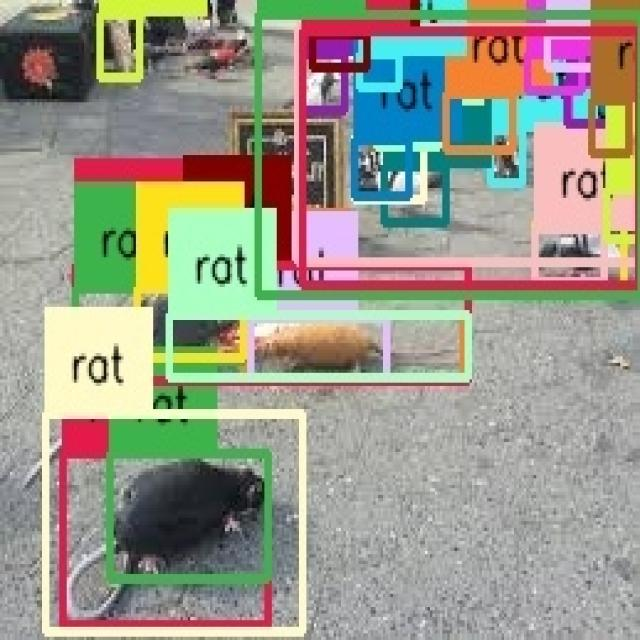rat: (257, 15, 640, 295), (302, 30, 638, 287), (298, 28, 639, 262), (45, 416, 302, 630), (77, 264, 467, 379), (63, 452, 268, 623), (110, 454, 268, 579), (171, 317, 467, 379), (244, 317, 464, 379), (75, 289, 244, 361), (252, 317, 388, 376), (137, 289, 244, 358), (535, 223, 624, 285), (568, 82, 630, 152), (354, 137, 424, 199), (373, 86, 438, 148), (535, 228, 604, 284), (446, 96, 513, 152), (384, 165, 446, 224), (184, 264, 251, 310), (356, 138, 408, 194), (551, 148, 598, 204), (378, 104, 437, 147), (100, 13, 140, 76), (299, 54, 343, 110), (527, 53, 582, 92), (592, 100, 629, 154), (489, 130, 524, 183), (568, 82, 610, 126), (546, 34, 598, 68), (605, 190, 640, 239), (314, 36, 366, 66), (358, 54, 398, 88), (632, 34, 640, 87)
